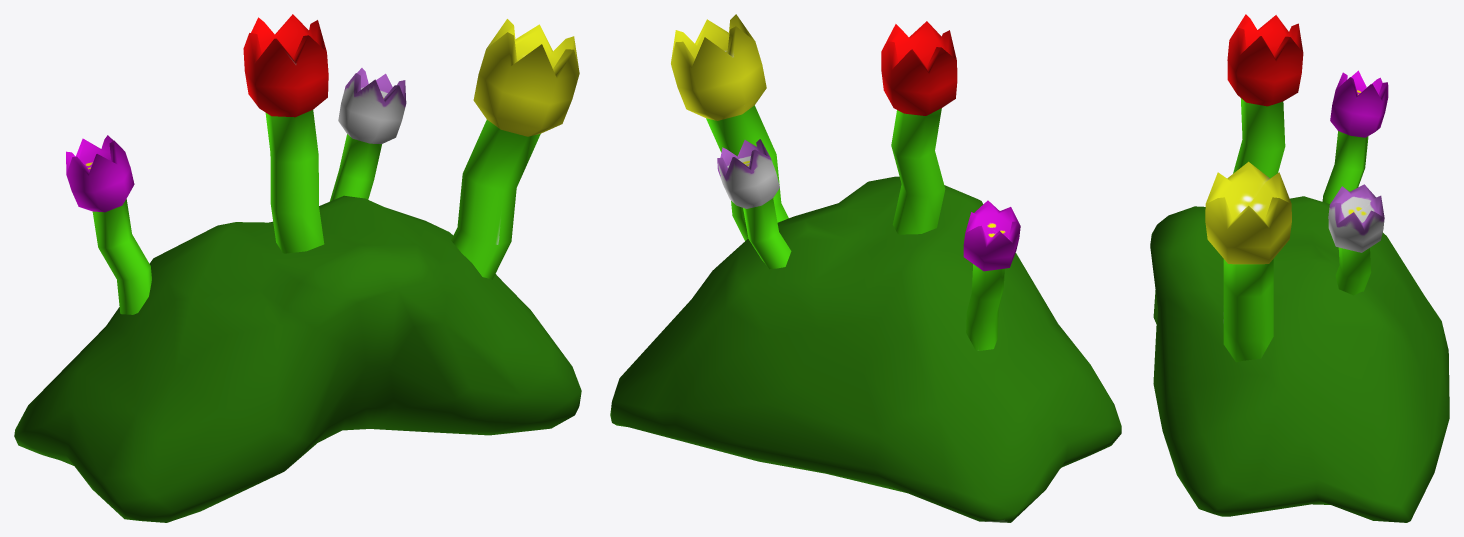
The model's file is flores.fbx.
3 renders of one model, left to right at view 1: azimuth 30°, elevation 25°; view 2: azimuth 150°, elevation 25°; view 3: azimuth 270°, elevation 25°, orthographic. The views are drawn at different scales.
Visible parts, largest first — view 1: Flores; view 2: Flores; view 3: Flores.
Boxes of the visible parts, x1,y1,x2,y2 form: Flores: (14, 14, 581, 522); Flores: (610, 14, 1121, 522); Flores: (1150, 14, 1449, 522).
Bounding box in the file's own units: 46.41 × 40.97 × 28.51.
